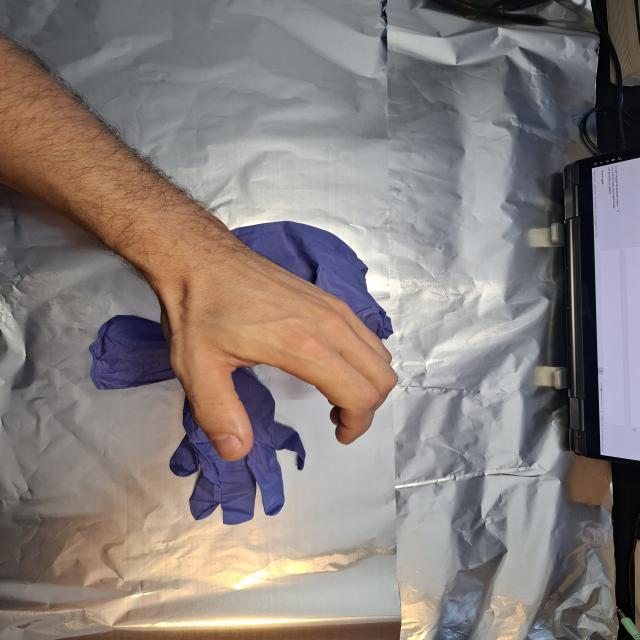glove_off: (156, 253, 400, 462)
